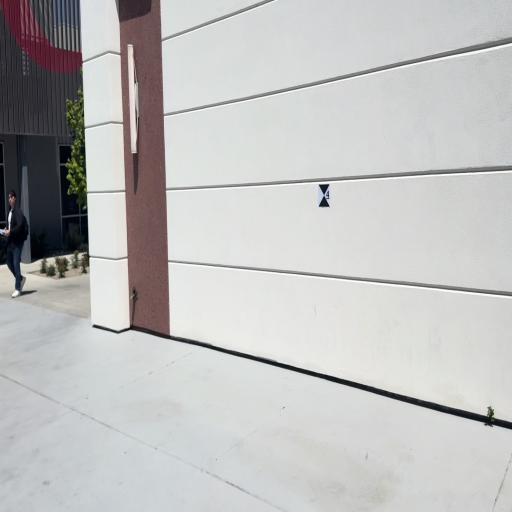target4: (318, 184, 331, 206)
